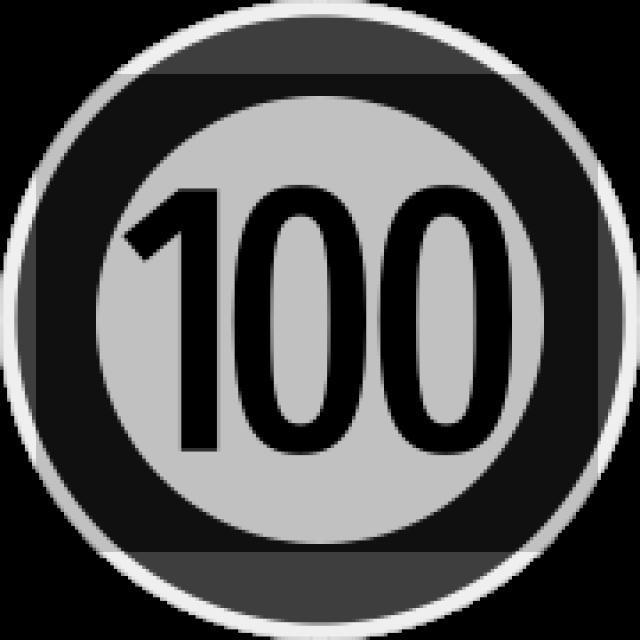speed limit 100: (28, 38, 616, 606)
